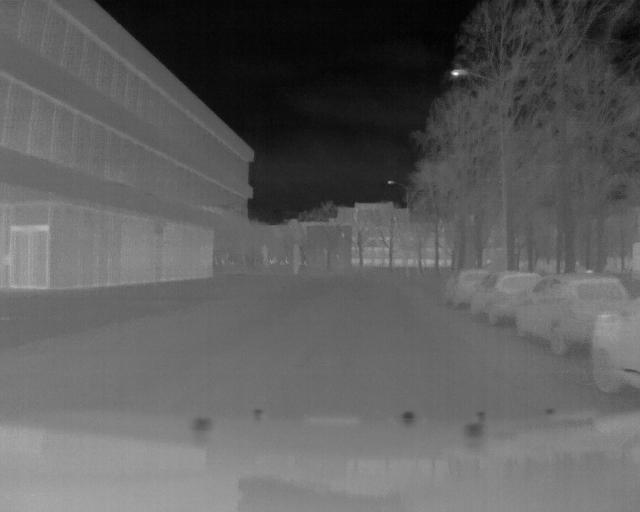car: (513, 271, 596, 355), (468, 269, 529, 325)
